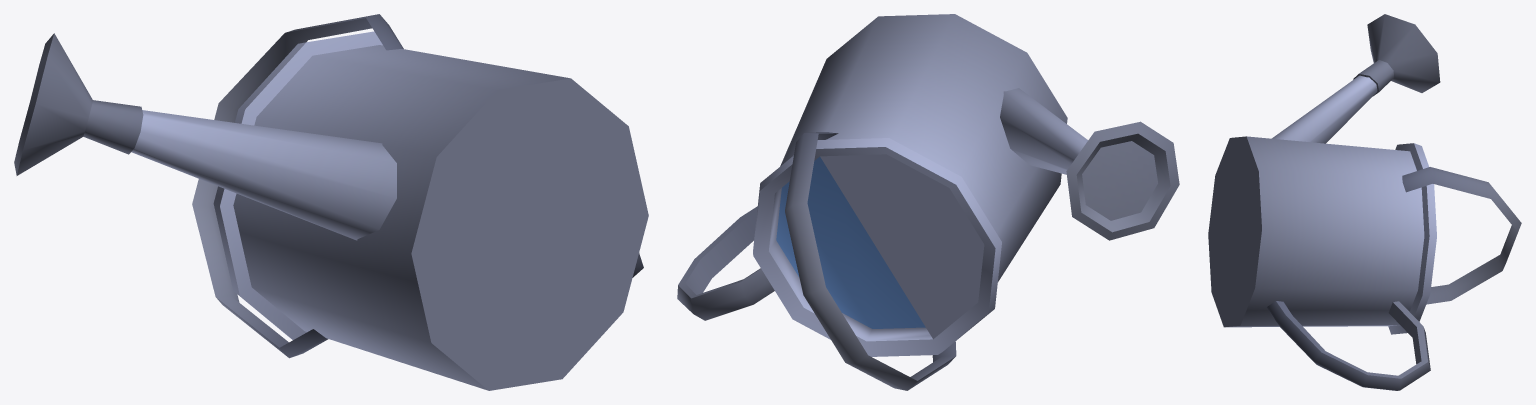
The model's file is WateringCan.glb.
The picture shows the model from 3 angles, left to right: view 1: azimuth 30°, elevation 25°; view 2: azimuth 150°, elevation 25°; view 3: azimuth 270°, elevation 25°; orthographic projection. The views are drawn at different scales.
Parts seen in each view (by area): view 1: WateringCan; view 2: WateringCan; view 3: WateringCan.
Boxes of the visible parts, left/top/right/bottom form: WateringCan: left=14, top=14, right=648, bottom=390; WateringCan: left=677, top=14, right=1179, bottom=390; WateringCan: left=1208, top=14, right=1521, bottom=390.
Size of the model in its own units: 0.0489 by 0.0282 by 0.0361.
1 material, 1 textured.
